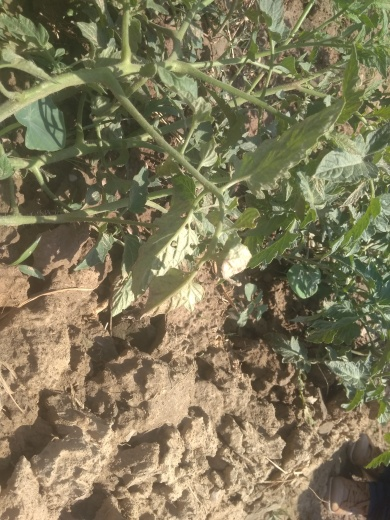tomato diseased leaf: (144, 270, 210, 317), (220, 235, 255, 293)
tomato plant: (5, 11, 385, 334)
